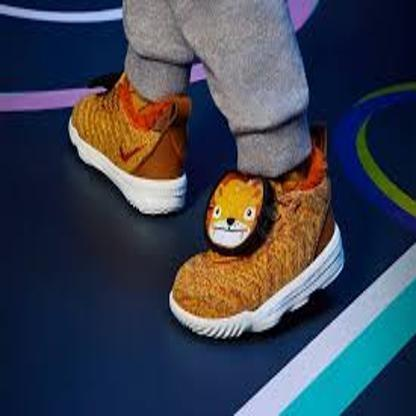not trash: (170, 129, 355, 341), (72, 76, 192, 218)
